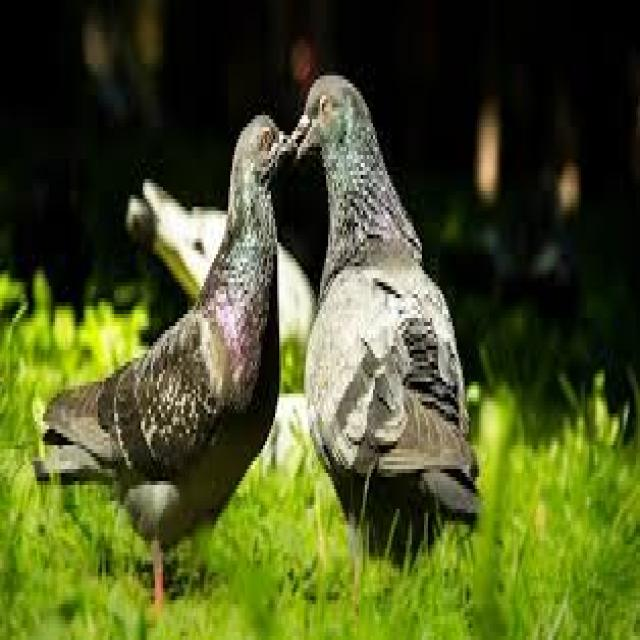pigeon: (30, 104, 298, 570)
